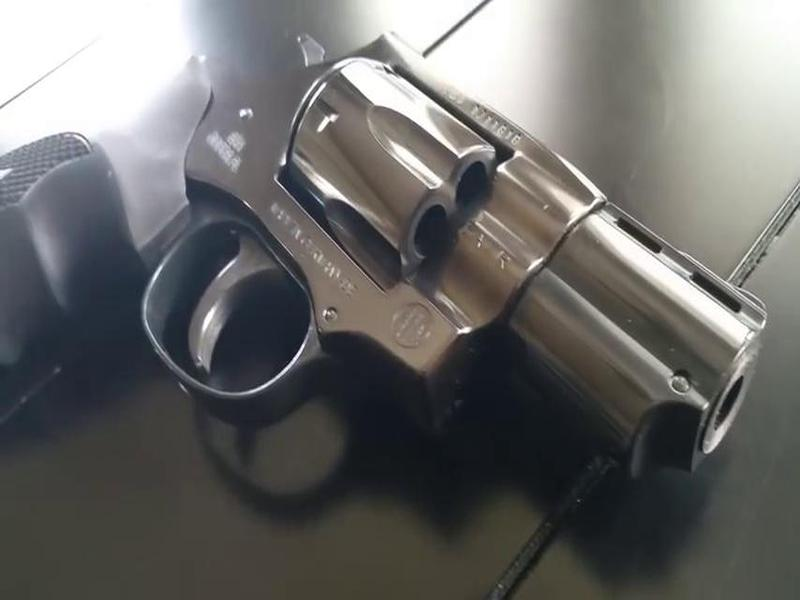Revolver: (1, 25, 739, 496)
